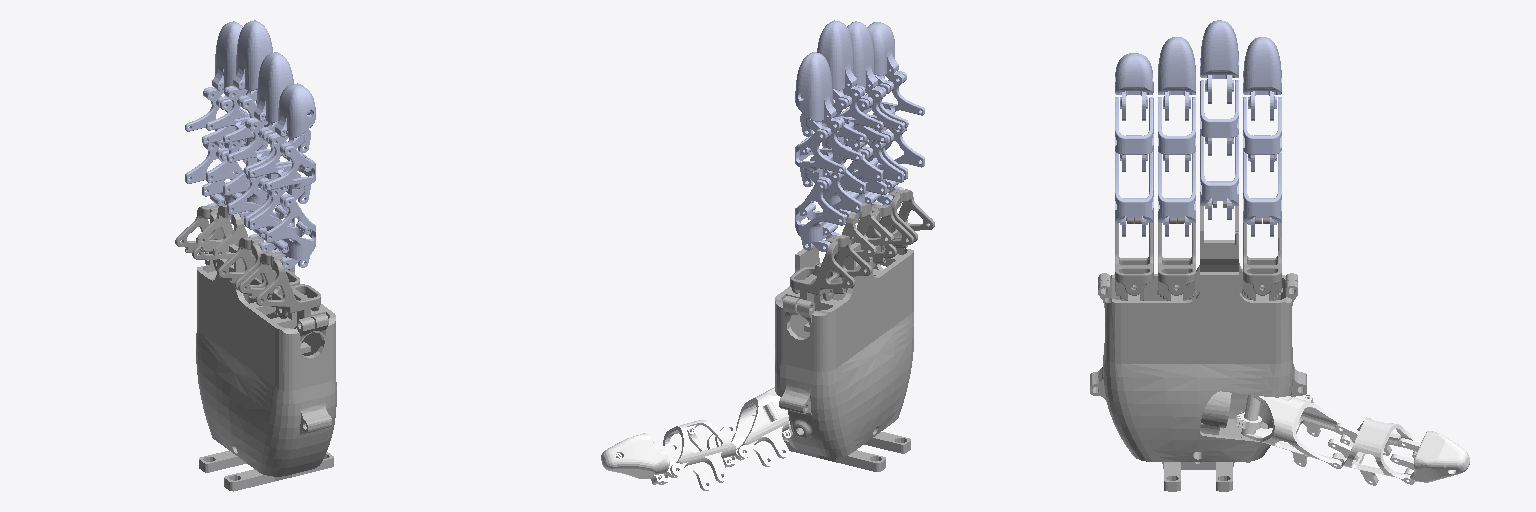
--- Facts derived from the render (not from the file) ---
Views: 3 orthographic renders of the robot side by side, from view 1: azimuth 30°, elevation 25°; view 2: azimuth 150°, elevation 25°; view 3: azimuth 270°, elevation 25°.
Robot: HAND_ASSEMBLY_w_tip — 24 links, 23 joints (18 revolute, 5 fixed); root link Palm_Base; default pose: every joint at zero.
Links seen in each view (by area): view 1: Palm_Base, P_B_MCP, P_MCP, P_PIP, P_DIP, R_DIP, M_DIP, I_DIP, R_B_MCP, M_PIP, R_MCP, M_MCP (+4 smaller); view 2: Palm_Base, T_MCP, T_CMC, I_B_MCP, I_DIP, I_MCP, T_IP, I_PIP, M_DIP_TIP, R_DIP, P_DIP, M_PIP (+8 smaller); view 3: Palm_Base, T_CMC, T_MCP, T_IP, R_DIP, I_DIP, I_B_MCP, R_B_MCP, P_B_MCP, P_DIP, P_MCP, M_MCP (+8 smaller).
Boxes of the visible links, x1,y1,x2,y2 form: Palm_Base: (196,205,336,491); P_B_MCP: (238,252,320,328); P_MCP: (248,185,315,269); P_PIP: (248,133,315,205); P_DIP: (269,83,315,154); R_DIP: (247,52,293,138); M_DIP: (226,21,272,106); I_DIP: (205,21,246,107); R_B_MCP: (217,237,299,314); M_PIP: (206,86,267,150); R_MCP: (227,170,294,252); M_MCP: (206,138,266,222); Palm_Base: (775,203,913,471); T_MCP: (659,420,745,490); T_CMC: (728,387,790,466); I_B_MCP: (790,235,871,310); I_DIP: (795,52,841,137); I_MCP: (795,169,861,251); T_IP: (601,433,679,484); I_PIP: (795,117,862,188); M_DIP_TIP: (817,21,861,106); R_DIP: (843,21,883,106); P_DIP: (867,22,904,91); M_PIP: (822,85,883,149); Palm_Base: (1090,201,1306,491); T_CMC: (1235,394,1345,468); T_MCP: (1328,417,1418,485); T_IP: (1390,431,1469,482); R_DIP: (1158,37,1195,120); I_DIP: (1243,37,1281,120); I_B_MCP: (1242,218,1282,300); R_B_MCP: (1157,218,1196,300); P_B_MCP: (1115,218,1153,300); P_DIP: (1115,53,1153,120); P_MCP: (1115,150,1153,236); M_MCP: (1200,134,1238,219).
Bounding box of the posed robot: 0.097 × 0.1869 × 0.2405 m (x, y, z).
24 mesh visuals loaded from 24 distinct referenced files (24 binary STL).

The robot description file, URDF, robot "HAND_ASSEMBLY_w_tip":
<?xml version="1.0" encoding="utf-8"?>
<!-- This URDF was automatically created by SolidWorks to URDF Exporter! Originally created by Stephen Brawner ([email redacted]) 
     Commit Version: 1.6.0-4-g7f85cfe  Build Version: 1.6.7995.38578
     For more information, please see http://wiki.ros.org/sw_urdf_exporter -->
<robot
  name="HAND_ASSEMBLY_w_tip">
  <link
    name="Palm_Base">
    <inertial>
      <origin
        xyz="-0.00103400900285897 -0.000180539094809852 0.0474435139934218"
        rpy="0 0 0" />
      <mass
        value="0.0923260250366322" />
      <inertia
        ixx="0.00015783467129876"
        ixy="1.67552395000014E-06"
        ixz="2.03624787383231E-06"
        iyy="0.000112349532484309"
        iyz="-3.30084225768315E-06"
        izz="7.70769956188042E-05" />
    </inertial>
    <visual>
      <origin
        xyz="0 0 0"
        rpy="0 0 0" />
      <geometry>
        <mesh
          filename="Palm_Base.STL" />
      </geometry>
      <material
        name="">
        <color
          rgba="0.752941176470588 0.752941176470588 0.752941176470588 1" />
      </material>
    </visual>
    <collision>
      <origin
        xyz="0 0 0"
        rpy="0 0 0" />
      <geometry>
        <mesh
          filename="Palm_Base.STL" />
      </geometry>
    </collision>
  </link>
  <link
    name="T_CMC">
    <inertial>
      <origin
        xyz="-0.0177528743407777 0.00210709032429534 0.00172578328714319"
        rpy="0 0 0" />
      <mass
        value="0.00466274355739475" />
      <inertia
        ixx="5.91068337186523E-07"
        ixy="1.22100042338684E-07"
        ixz="7.66648747890101E-08"
        iyy="1.15532024570322E-06"
        iyz="8.72417776166709E-09"
        izz="1.05459263052673E-06" />
    </inertial>
    <visual>
      <origin
        xyz="0 0 0"
        rpy="0 0 0" />
      <geometry>
        <mesh
          filename="T_CMC.STL" />
      </geometry>
      <material
        name="">
        <color
          rgba="1 1 1 1" />
      </material>
    </visual>
    <collision>
      <origin
        xyz="0 0 0"
        rpy="0 0 0" />
      <geometry>
        <mesh
          filename="T_CMC.STL" />
      </geometry>
    </collision>
  </link>
  <joint
    name="T_CMC"
    type="revolute">
    <origin
      xyz="0.0115599999999981 0.0263657188690824 0.0345742378610531"
      rpy="-3.08545108813298 -0.146781499054298 -1.9376645639798" />
    <parent
      link="Palm_Base" />
    <child
      link="T_CMC" />
    <axis
      xyz="0 0 1" />
    <limit
      lower="0"
      upper="1.8545"
      effort="10"
      velocity="0" />
  </joint>
  <link
    name="T_MCP">
    <inertial>
      <origin
        xyz="-0.0117195543506135 0.0142292379065931 7.95619311620005E-06"
        rpy="0 0 0" />
      <mass
        value="0.0033547197974598" />
      <inertia
        ixx="5.26043145167794E-07"
        ixy="9.04812058339906E-08"
        ixz="-8.47222922629862E-10"
        iyy="4.82729259847219E-07"
        iyz="8.57465672525974E-10"
        izz="6.36180921499929E-07" />
    </inertial>
    <visual>
      <origin
        xyz="0 0 0"
        rpy="0 0 0" />
      <geometry>
        <mesh
          filename="T_MCP.STL" />
      </geometry>
      <material
        name="">
        <color
          rgba="1 1 1 1" />
      </material>
    </visual>
    <collision>
      <origin
        xyz="0 0 0"
        rpy="0 0 0" />
      <geometry>
        <mesh
          filename="T_MCP.STL" />
      </geometry>
    </collision>
  </link>
  <joint
    name="T_MCP"
    type="revolute">
    <origin
      xyz="-0.0469999941010945 0.00706933481126965 0.00842490515858201"
      rpy="0.134387415062573 -0.865005439816257 1.39498933884904" />
    <parent
      link="T_CMC" />
    <child
      link="T_MCP" />
    <axis
      xyz="0 0 1" />
    <limit
      lower="0"
      upper="0.9203"
      effort="10"
      velocity="0" />
  </joint>
  <link
    name="T_IP">
    <inertial>
      <origin
        xyz="-0.0154710251108717 0.0116628328499748 -1.39141450905822E-05"
        rpy="0 0 0" />
      <mass
        value="0.00427950857548729" />
      <inertia
        ixx="4.55363913450062E-07"
        ixy="1.71115890432477E-07"
        ixz="7.03068336447427E-11"
        iyy="4.33364739226157E-07"
        iyz="2.79946493298776E-10"
        izz="5.83632941087751E-07" />
    </inertial>
    <visual>
      <origin
        xyz="0 0 0"
        rpy="0 0 0" />
      <geometry>
        <mesh
          filename="T_IP.STL" />
      </geometry>
      <material
        name="">
        <color
          rgba="1 1 1 1" />
      </material>
    </visual>
    <collision>
      <origin
        xyz="0 0 0"
        rpy="0 0 0" />
      <geometry>
        <mesh
          filename="T_IP.STL" />
      </geometry>
    </collision>
  </link>
  <joint
    name="T_IP"
    type="revolute">
    <origin
      xyz="-0.011834 0.038209 0"
      rpy="0 0 0" />
    <parent
      link="T_MCP" />
    <child
      link="T_IP" />
    <axis
      xyz="0 0 1" />
    <limit
      lower="0"
      upper="0.7858"
      effort="10"
      velocity="0" />
  </joint>
  <link
    name="T_IP_TIP">
    <inertial>
      <origin
        xyz="0.0103691008973476 -0.015362481770586 -1.39141450904955E-05"
        rpy="0 0 0" />
      <mass
        value="0.0042795085754873" />
      <inertia
        ixx="4.55363913450062E-07"
        ixy="1.71115890432475E-07"
        ixz="7.03068336449413E-11"
        iyy="4.33364739226156E-07"
        iyz="2.79946493298683E-10"
        izz="5.83632941087752E-07" />
    </inertial>
    <visual>
      <origin
        xyz="0 0 0"
        rpy="0 0 0" />
      <geometry>
        <mesh
          filename="T_IP_TIP.STL" />
      </geometry>
      <material
        name="">
        <color
          rgba="1 1 1 1" />
      </material>
    </visual>
    <collision>
      <origin
        xyz="0 0 0"
        rpy="0 0 0" />
      <geometry>
        <mesh
          filename="T_IP_TIP.STL" />
      </geometry>
    </collision>
  </link>
  <joint
    name="T_IP_tip"
    type="fixed">
    <origin
      xyz="-0.02584 0.027025 0"
      rpy="0 0 0" />
    <parent
      link="T_IP" />
    <child
      link="T_IP_TIP" />
    <axis
      xyz="0 0 0" />
  </joint>
  <link
    name="I_B_MCP">
    <inertial>
      <origin
        xyz="-0.000141740995557887 0.00741427693562444 0.00589412532435988"
        rpy="0 0 0" />
      <mass
        value="0.00533430750029796" />
      <inertia
        ixx="1.03059700939786E-06"
        ixy="2.85492272449384E-09"
        ixz="5.92070466417556E-09"
        iyy="6.30910124394686E-07"
        iyz="-3.26746600649069E-07"
        izz="8.35250160642294E-07" />
    </inertial>
    <visual>
      <origin
        xyz="0 0 0"
        rpy="0 0 0" />
      <geometry>
        <mesh
          filename="I_B_MCP.STL" />
      </geometry>
      <material
        name="">
        <color
          rgba="0.698039215686274 0.698039215686274 0.698039215686274 1" />
      </material>
    </visual>
    <collision>
      <origin
        xyz="0 0 0"
        rpy="0 0 0" />
      <geometry>
        <mesh
          filename="I_B_MCP.STL" />
      </geometry>
    </collision>
  </link>
  <joint
    name="I_B_MCP"
    type="revolute">
    <origin
      xyz="0 0.0315 0.101"
      rpy="1.5708 0 -1.5708" />
    <parent
      link="Palm_Base" />
    <child
      link="I_B_MCP" />
    <axis
      xyz="0 0 1" />
    <limit
      lower="0"
      upper="0.4666"
      effort="0"
      velocity="0" />
  </joint>
  <link
    name="I_MCP">
    <inertial>
      <origin
        xyz="1.74845297286758E-05 0.0124250824596619 -0.00584261155744063"
        rpy="0 0 0" />
      <mass
        value="0.002755942184203" />
      <inertia
        ixx="3.71398920418385E-07"
        ixy="4.40724760944911E-11"
        ixz="5.10520634416052E-11"
        iyy="2.52622034069185E-07"
        iyz="-4.7152595339951E-08"
        izz="3.66973305602765E-07" />
    </inertial>
    <visual>
      <origin
        xyz="0 0 0"
        rpy="0 0 0" />
      <geometry>
        <mesh
          filename="I_MCP.STL" />
      </geometry>
      <material
        name="">
        <color
          rgba="0.796078431372549 0.823529411764706 0.937254901960784 1" />
      </material>
    </visual>
    <collision>
      <origin
        xyz="0 0 0"
        rpy="0 0 0" />
      <geometry>
        <mesh
          filename="I_MCP.STL" />
      </geometry>
    </collision>
  </link>
  <joint
    name="I_MCP"
    type="revolute">
    <origin
      xyz="0 0.0279999999999992 0.0105000000000001"
      rpy="0 0 0" />
    <parent
      link="I_B_MCP" />
    <child
      link="I_MCP" />
    <axis
      xyz="-1 0 0" />
    <limit
      lower="0"
      upper="1.8002"
      effort="0"
      velocity="0" />
  </joint>
  <link
    name="I_PIP">
    <inertial>
      <origin
        xyz="1.91322862936327E-05 0.0102728432221988 -0.00621243408785706"
        rpy="0 0 0" />
      <mass
        value="0.00237210892394421" />
      <inertia
        ixx="2.39005004655723E-07"
        ixy="3.37006733460047E-11"
        ixz="3.67682453100147E-11"
        iyy="2.02579627119824E-07"
        iyz="-3.33240723310074E-09"
        izz="2.33279497210016E-07" />
    </inertial>
    <visual>
      <origin
        xyz="0 0 0"
        rpy="0 0 0" />
      <geometry>
        <mesh
          filename="I_PIP.STL" />
      </geometry>
      <material
        name="">
        <color
          rgba="0.796078431372549 0.823529411764706 0.937254901960784 1" />
      </material>
    </visual>
    <collision>
      <origin
        xyz="0 0 0"
        rpy="0 0 0" />
      <geometry>
        <mesh
          filename="I_PIP.STL" />
      </geometry>
    </collision>
  </link>
  <joint
    name="I_PIP"
    type="revolute">
    <origin
      xyz="0 0.0349845407392164 -4.41133227821362E-05"
      rpy="0 0 0" />
    <parent
      link="I_MCP" />
    <child
      link="I_PIP" />
    <axis
      xyz="-1 0 0" />
    <limit
      upper="1.3104"
      lower="0"
      effort="0"
      velocity="0" />
  </joint>
  <link
    name="I_DIP">
    <inertial>
      <origin
        xyz="0.00887453911689197 0.0186542942734911 1.79511034709562E-05"
        rpy="0 0 0" />
      <mass
        value="0.00401062179385268" />
      <inertia
        ixx="5.63158594739122E-07"
        ixy="-6.20177624878477E-08"
        ixz="2.95049292892786E-11"
        iyy="2.03576120686417E-07"
        iyz="2.56006508686644E-10"
        izz="5.37383345412659E-07" />
    </inertial>
    <visual>
      <origin
        xyz="0 0 0"
        rpy="0 0 0" />
      <geometry>
        <mesh
          filename="I_DIP.STL" />
      </geometry>
      <material
        name="">
        <color
          rgba="0.796078431372549 0.823529411764706 0.937254901960784 1" />
      </material>
    </visual>
    <collision>
      <origin
        xyz="0 0 0"
        rpy="0 0 0" />
      <geometry>
        <mesh
          filename="I_DIP.STL" />
      </geometry>
    </collision>
  </link>
  <joint
    name="I_DIP"
    type="revolute">
    <origin
      xyz="0 0.028 0"
      rpy="0 1.5707963267949 0" />
    <parent
      link="I_PIP" />
    <child
      link="I_DIP" />
    <axis
      xyz="0 0 -1" />
    <limit
      upper="1.1885"
      lower="0"
      effort="0"
      velocity="0" />
  </joint>
  <link
    name="I_DIP_TIP">
    <inertial>
      <origin
        xyz="-0.00112546088310851 -0.0208457057265095 1.79511034683888E-05"
        rpy="0 0 0" />
      <mass
        value="0.00401062179385268" />
      <inertia
        ixx="5.63158594739121E-07"
        ixy="-6.20177624878477E-08"
        ixz="2.95049292892854E-11"
        iyy="2.03576120686417E-07"
        iyz="2.5600650868666E-10"
        izz="5.37383345412658E-07" />
    </inertial>
    <visual>
      <origin
        xyz="0 0 0"
        rpy="0 0 0" />
      <geometry>
        <mesh
          filename="I_DIP_TIP.STL" />
      </geometry>
      <material
        name="">
        <color
          rgba="0.796078431372549 0.823529411764706 0.937254901960784 1" />
      </material>
    </visual>
    <collision>
      <origin
        xyz="0 0 0"
        rpy="0 0 0" />
      <geometry>
        <mesh
          filename="I_DIP_TIP.STL" />
      </geometry>
    </collision>
  </link>
  <joint
    name="I_DIP_tip"
    type="fixed">
    <origin
      xyz="0.0100000000000005 0.0395000000000005 0"
      rpy="0 0 0" />
    <parent
      link="I_DIP" />
    <child
      link="I_DIP_TIP" />
    <axis
      xyz="0 0 0" />
  </joint>
  <link
    name="M_MCP">
    <inertial>
      <origin
        xyz="1.64022040103299E-05 0.0123174782088804 -0.00573714670375402"
        rpy="0 0 0" />
      <mass
        value="0.00272570986161072" />
      <inertia
        ixx="3.60741144993206E-07"
        ixy="4.96515705969676E-11"
        ixz="5.81346054455877E-11"
        iyy="2.49082764372577E-07"
        iyz="-4.63139493716337E-08"
        izz="3.60046128584186E-07" />
    </inertial>
    <visual>
      <origin
        xyz="0 0 0"
        rpy="0 0 0" />
      <geometry>
        <mesh
          filename="M_MCP.STL" />
      </geometry>
      <material
        name="">
        <color
          rgba="0.796078431372549 0.823529411764706 0.937254901960784 1" />
      </material>
    </visual>
    <collision>
      <origin
        xyz="0 0 0"
        rpy="0 0 0" />
      <geometry>
        <mesh
          filename="M_MCP.STL" />
      </geometry>
    </collision>
  </link>
  <joint
    name="M_MCP"
    type="revolute">
    <origin
      xyz="-0.010497 0.010499 0.138"
      rpy="1.5708 0 -1.5708" />
    <parent
      link="Palm_Base" />
    <child
      link="M_MCP" />
    <axis
      xyz="-1 0 0" />
    <limit
      upper="1.7791"
      lower="0"
      effort="0"
      velocity="0" />
  </joint>
  <link
    name="M_PIP">
    <inertial>
      <origin
        xyz="1.83008023570738E-05 0.0102838809467659 -0.00629710419392002"
        rpy="0 0 0" />
      <mass
        value="0.00233862559762926" />
      <inertia
        ixx="2.35929413226276E-07"
        ixy="-3.34829212476315E-13"
        ixz="3.71732498979706E-11"
        iyy="2.00832285337959E-07"
        iyz="-3.66556023160932E-09"
        izz="2.27074048207937E-07" />
    </inertial>
    <visual>
      <origin
        xyz="0 0 0"
        rpy="0 0 0" />
      <geometry>
        <mesh
          filename="M_PIP.STL" />
      </geometry>
      <material
        name="">
        <color
          rgba="0.792156862745098 0.819607843137255 0.933333333333333 1" />
      </material>
    </visual>
    <collision>
      <origin
        xyz="0 0 0"
        rpy="0 0 0" />
      <geometry>
        <mesh
          filename="M_PIP.STL" />
      </geometry>
    </collision>
  </link>
  <joint
    name="M_PIP"
    type="revolute">
    <origin
      xyz="0 0.0349845407392164 -4.41133227822368E-05"
      rpy="0 0 0" />
    <parent
      link="M_MCP" />
    <child
      link="M_PIP" />
    <axis
      xyz="-1 0 0" />
    <limit
      upper="1.2823"
      lower="0"
      effort="0"
      velocity="0" />
  </joint>
  <link
    name="M_DIP">
    <inertial>
      <origin
        xyz="0.00882563923105356 0.0186497288030855 1.91380464206088E-05"
        rpy="0 0 0" />
      <mass
        value="0.00393986039661757" />
      <inertia
        ixx="5.59716447859537E-07"
        ixy="-6.16509349274183E-08"
        ixz="2.3914122648095E-11"
        iyy="2.02161694696982E-07"
        iyz="2.54134288669402E-10"
        izz="5.33501898097562E-07" />
    </inertial>
    <visual>
      <origin
        xyz="0 0 0"
        rpy="0 0 0" />
      <geometry>
        <mesh
          filename="M_DIP.STL" />
      </geometry>
      <material
        name="">
        <color
          rgba="0.796078431372549 0.823529411764706 0.937254901960784 1" />
      </material>
    </visual>
    <collision>
      <origin
        xyz="0 0 0"
        rpy="0 0 0" />
      <geometry>
        <mesh
          filename="M_DIP.STL" />
      </geometry>
    </collision>
  </link>
  <joint
    name="M_DIP"
    type="revolute">
    <origin
      xyz="0 0.028 0"
      rpy="0 1.5707963267949 0" />
    <parent
      link="M_PIP" />
    <child
      link="M_DIP" />
    <axis
      xyz="0 0 -1" />
    <limit
      upper="1.275"
      lower="0"
      effort="0"
      velocity="0" />
  </joint>
  <link
    name="M_DIP_TIP">
    <inertial>
      <origin
        xyz="-0.00117436076894647 -0.0208502711969146 1.82879864194761E-05"
        rpy="0 0 0" />
      <mass
        value="0.00393986039661757" />
      <inertia
        ixx="5.59716447859538E-07"
        ixy="-6.16509349274183E-08"
        ixz="2.39141226480827E-11"
        iyy="2.02161694696982E-07"
        iyz="2.54134288669405E-10"
        izz="5.33501898097562E-07" />
    </inertial>
    <visual>
      <origin
        xyz="0 0 0"
        rpy="0 0 0" />
      <geometry>
        <mesh
          filename="M_DIP_TIP.STL" />
      </geometry>
      <material
        name="">
        <color
          rgba="0.796078431372549 0.823529411764706 0.937254901960784 1" />
      </material>
    </visual>
    <collision>
      <origin
        xyz="0 0 0"
        rpy="0 0 0" />
      <geometry>
        <mesh
          filename="M_DIP_TIP.STL" />
      </geometry>
    </collision>
  </link>
  <joint
    name="M_DIP_tip"
    type="fixed">
    <origin
      xyz="0.01 0.0395000000000001 0"
      rpy="0 0 0" />
    <parent
      link="M_DIP" />
    <child
      link="M_DIP_TIP" />
    <axis
      xyz="0 0 0" />
  </joint>
  <link
    name="R_B_MCP">
    <inertial>
      <origin
        xyz="0.000141400022495722 0.00748571390330596 -0.00591445143783573"
        rpy="0 0 0" />
      <mass
        value="0.00533806254719218" />
      <inertia
        ixx="1.03534831698766E-06"
        ixy="-2.71242837602829E-09"
        ixz="5.52800343097293E-09"
        iyy="6.29683236200971E-07"
        iyz="3.2850594953798E-07"
        izz="8.39889436290282E-07" />
    </inertial>
    <visual>
      <origin
        xyz="0 0 0"
        rpy="0 0 0" />
      <geometry>
        <mesh
          filename="R_B_MCP.STL" />
      </geometry>
      <material
        name="">
        <color
          rgba="0.698039215686274 0.698039215686274 0.698039215686274 1" />
      </material>
    </visual>
    <collision>
      <origin
        xyz="0 0 0"
        rpy="0 0 0" />
      <geometry>
        <mesh
          filename="R_B_MCP.STL" />
      </geometry>
    </collision>
  </link>
  <joint
    name="R_B_MCP"
    type="revolute">
    <origin
      xyz="0 -0.0105 0.101"
      rpy="1.5708 0 1.5708" />
    <parent
      link="Palm_Base" />
    <child
      link="R_B_MCP" />
    <axis
      xyz="0 0 1" />
    <limit
      lower="0"
      upper="0.4666"
      effort="0"
      velocity="0" />
  </joint>
  <link
    name="R_MCP">
    <inertial>
      <origin
        xyz="1.81899888161037E-05 0.012359374141564 -0.00587054662659402"
        rpy="0 0 0" />
      <mass
        value="0.00276772093942441" />
      <inertia
        ixx="3.62933389029114E-07"
        ixy="2.6008141899167E-11"
        ixz="4.37192594293451E-11"
        iyy="2.51940280505407E-07"
        iyz="-4.485013942002E-08"
        izz="3.63178789330102E-07" />
    </inertial>
    <visual>
      <origin
        xyz="0 0 0"
        rpy="0 0 0" />
      <geometry>
        <mesh
          filename="R_MCP.STL" />
      </geometry>
      <material
        name="">
        <color
          rgba="0.796078431372549 0.823529411764706 0.937254901960784 1" />
      </material>
    </visual>
    <collision>
      <origin
        xyz="0 0 0"
        rpy="0 0 0" />
      <geometry>
        <mesh
          filename="R_MCP.STL" />
      </geometry>
    </collision>
  </link>
  <joint
    name="R_MCP"
    type="revolute">
    <origin
      xyz="0 0.028 -0.0104999999999996"
      rpy="-3.14159265358979 0 3.14159265358979" />
    <parent
      link="R_B_MCP" />
    <child
      link="R_MCP" />
    <axis
      xyz="-1 0 0" />
    <limit
      upper="1.7553"
      lower="0"
      effort="0"
      velocity="0" />
  </joint>
  <link
    name="R_PIP">
    <inertial>
      <origin
        xyz="1.82711535064734E-05 0.0103252304355741 -0.00628747443583766"
        rpy="0 0 0" />
      <mass
        value="0.00234637206717096" />
      <inertia
        ixx="2.36074471265145E-07"
        ixy="7.75187690713442E-12"
        ixz="1.58152430107811E-11"
        iyy="2.01399401299825E-07"
        iyz="-3.30872238950386E-09"
        izz="2.28648255064159E-07" />
    </inertial>
    <visual>
      <origin
        xyz="0 0 0"
        rpy="0 0 0" />
      <geometry>
        <mesh
          filename="R_PIP.STL" />
      </geometry>
      <material
        name="">
        <color
          rgba="0.796078431372549 0.823529411764706 0.937254901960784 1" />
      </material>
    </visual>
    <collision>
      <origin
        xyz="0 0 0"
        rpy="0 0 0" />
      <geometry>
        <mesh
          filename="R_PIP.STL" />
      </geometry>
    </collision>
  </link>
  <joint
    name="R_PIP"
    type="revolute">
    <origin
      xyz="0 0.0349845407392164 -4.41133227817875E-05"
      rpy="0 0 0" />
    <parent
      link="R_MCP" />
    <child
      link="R_PIP" />
    <axis
      xyz="-1 0 0" />
    <limit
      upper="1.273"
      lower="0"
      effort="0"
      velocity="0" />
  </joint>
  <link
    name="R_DIP">
    <inertial>
      <origin
        xyz="0.00880902130280509 0.0186629668952652 1.83062358519743E-05"
        rpy="0 0 0" />
      <mass
        value="0.00392874816769408" />
      <inertia
        ixx="5.5954543559867E-07"
        ixy="-6.18615159431051E-08"
        ixz="2.41650917133391E-11"
        iyy="2.0175897351784E-07"
        iyz="2.5578789547633E-10"
        izz="5.33046408962186E-07" />
    </inertial>
    <visual>
      <origin
        xyz="0 0 0"
        rpy="0 0 0" />
      <geometry>
        <mesh
          filename="R_DIP.STL" />
      </geometry>
      <material
        name="">
        <color
          rgba="0.796078431372549 0.823529411764706 0.937254901960784 1" />
      </material>
    </visual>
    <collision>
      <origin
        xyz="0 0 0"
        rpy="0 0 0" />
      <geometry>
        <mesh
          filename="R_DIP.STL" />
      </geometry>
    </collision>
  </link>
  <joint
    name="R_DIP"
    type="revolute">
    <origin
      xyz="0 0.028 0"
      rpy="0 1.5707963267949 0" />
    <parent
      link="R_PIP" />
    <child
      link="R_DIP" />
    <axis
      xyz="0 0 -1" />
    <limit
      upper="1.2842"
      lower="0"
      effort="0"
      velocity="0" />
  </joint>
  <link
    name="R_DIP_TIP">
    <inertial>
      <origin
        xyz="-0.00119097799471922 -0.020837030942089 1.8306400363521E-05"
        rpy="0 0 0" />
      <mass
        value="0.00392874891708615" />
      <inertia
        ixx="5.59545595893736E-07"
        ixy="-6.18615594670326E-08"
        ixz="2.41567546999687E-11"
        iyy="2.01758965447605E-07"
        iyz="2.55755267014244E-10"
        izz="5.33046577522925E-07" />
    </inertial>
    <visual>
      <origin
        xyz="0 0 0"
        rpy="0 0 0" />
      <geometry>
        <mesh
          filename="R_DIP_TIP.STL" />
      </geometry>
      <material
        name="">
        <color
          rgba="0.796078431372549 0.823529411764706 0.937254901960784 1" />
      </material>
    </visual>
    <collision>
      <origin
        xyz="0 0 0"
        rpy="0 0 0" />
      <geometry>
        <mesh
          filename="R_DIP_TIP.STL" />
      </geometry>
    </collision>
  </link>
  <joint
    name="R_DIP_tip"
    type="fixed">
    <origin
      xyz="0.0100000000000002 0.0395 0"
      rpy="0 0 0" />
    <parent
      link="R_DIP" />
    <child
      link="R_DIP_TIP" />
    <axis
      xyz="0 0 0" />
  </joint>
  <link
    name="P_B_MCP">
    <inertial>
      <origin
        xyz="-0.000168227144883799 0.00805589897425299 -0.00620012472926412"
        rpy="0 0 0" />
      <mass
        value="0.00512816464476323" />
      <inertia
        ixx="9.99698557391836E-07"
        ixy="-2.18278347694959E-08"
        ixz="1.56085772683329E-08"
        iyy="6.10313699066286E-07"
        iyz="3.14479371620686E-07"
        izz="7.98354669596689E-07" />
    </inertial>
    <visual>
      <origin
        xyz="0 0 0"
        rpy="0 0 0" />
      <geometry>
        <mesh
          filename="P_B_MCP.STL" />
      </geometry>
      <material
        name="">
        <color
          rgba="0.698039215686274 0.698039215686274 0.698039215686274 1" />
      </material>
    </visual>
    <collision>
      <origin
        xyz="0 0 0"
        rpy="0 0 0" />
      <geometry>
        <mesh
          filename="P_B_MCP.STL" />
      </geometry>
    </collision>
  </link>
  <joint
    name="P_B_MCP"
    type="revolute">
    <origin
      xyz="0 -0.0314999999999991 0.101"
      rpy="1.5707963267949 0 1.5707963267949" />
    <parent
      link="Palm_Base" />
    <child
      link="P_B_MCP" />
    <axis
      xyz="0 0 1" />
    <limit
      lower="0"
      upper="0.6872"
      effort="0"
      velocity="0" />
  </joint>
  <link
    name="P_MCP">
    <inertial>
      <origin
        xyz="1.75554955950188E-05 0.0123862857722916 -0.00586906537761576"
        rpy="0 0 0" />
      <mass
        value="0.00275274576508524" />
      <inertia
        ixx="3.66135316485623E-07"
        ixy="5.22812137872017E-11"
        ixz="5.20268126523517E-11"
        iyy="2.51983299258902E-07"
        iyz="-4.56232322526551E-08"
        izz="3.63835747168657E-07" />
    </inertial>
    <visual>
      <origin
        xyz="0 0 0"
        rpy="0 0 0" />
      <geometry>
        <mesh
          filename="P_MCP.STL" />
      </geometry>
      <material
        name="">
        <color
          rgba="0.796078431372549 0.823529411764706 0.937254901960784 1" />
      </material>
    </visual>
    <collision>
      <origin
        xyz="0 0 0"
        rpy="0 0 0" />
      <geometry>
        <mesh
          filename="P_MCP.STL" />
      </geometry>
    </collision>
  </link>
  <joint
    name="P_MCP"
    type="revolute">
    <origin
      xyz="0 0.028 -0.0104999999999996"
      rpy="-3.14159265358979 0 3.14159265358979" />
    <parent
      link="P_B_MCP" />
    <child
      link="P_MCP" />
    <axis
      xyz="-1 0 0" />
    <limit
      upper="1.7269"
      lower="0"
      effort="0"
      velocity="0" />
  </joint>
  <link
    name="P_PIP">
    <inertial>
      <origin
        xyz="1.74613939576754E-05 0.0103551539568031 -0.00633662510888215"
        rpy="0 0 0" />
      <mass
        value="0.00234098594407861" />
      <inertia
        ixx="2.36046453580125E-07"
        ixy="-1.81481552815254E-11"
        ixz="6.62320590883984E-11"
        iyy="2.01338905932991E-07"
        iyz="-3.58240052840699E-09"
        izz="2.29068935661679E-07" />
    </inertial>
    <visual>
      <origin
        xyz="0 0 0"
        rpy="0 0 0" />
      <geometry>
        <mesh
          filename="P_PIP.STL" />
      </geometry>
      <material
        name="">
        <color
          rgba="0.796078431372549 0.823529411764706 0.937254901960784 1" />
      </material>
    </visual>
    <collision>
      <origin
        xyz="0 0 0"
        rpy="0 0 0" />
      <geometry>
        <mesh
          filename="P_PIP.STL" />
      </geometry>
    </collision>
  </link>
  <joint
    name="P_PIP"
    type="revolute">
    <origin
      xyz="0 0.0349845407392164 -4.41133227819367E-05"
      rpy="0 0 0" />
    <parent
      link="P_MCP" />
    <child
      link="P_PIP" />
    <axis
      xyz="-1 0 0" />
    <limit
      upper="1.2573"
      lower="0"
      effort="0"
      velocity="0" />
  </joint>
  <link
    name="P_DIP">
    <inertial>
      <origin
        xyz="0.00857257995714257 0.015216338744899 2.31261281485526E-05"
        rpy="0 0 0" />
      <mass
        value="0.0031086176238361" />
      <inertia
        ixx="3.21156100189876E-07"
        ixy="-4.50241052565898E-08"
        ixz="7.08906803239545E-12"
        iyy="1.56377769878685E-07"
        iyz="7.86097567047071E-12"
        izz="3.02201695484807E-07" />
    </inertial>
    <visual>
      <origin
        xyz="0 0 0"
        rpy="0 0 0" />
      <geometry>
        <mesh
          filename="P_DIP.STL" />
      </geometry>
      <material
        name="">
        <color
          rgba="0.796078431372549 0.823529411764706 0.937254901960784 1" />
      </material>
    </visual>
    <collision>
      <origin
        xyz="0 0 0"
        rpy="0 0 0" />
      <geometry>
        <mesh
          filename="P_DIP.STL" />
      </geometry>
    </collision>
  </link>
  <joint
    name="P_DIP"
    type="revolute">
    <origin
      xyz="0 0.028 0"
      rpy="0 1.5707963267949 0" />
    <parent
      link="P_PIP" />
    <child
      link="P_DIP" />
    <axis
      xyz="0 0 -1" />
    <limit
      upper="1.2577"
      lower="0"
      effort="0"
      velocity="0" />
  </joint>
  <link
    name="P_DIP_TIP">
    <inertial>
      <origin
        xyz="-0.00142742008351409 -0.0152836613401574 2.31261185003676E-05"
        rpy="0 0 0" />
      <mass
        value="0.00310861760480009" />
      <inertia
        ixx="3.21156096904448E-07"
        ixy="-4.50241043703727E-08"
        ixz="7.0897587779266E-12"
        iyy="1.56377770371452E-07"
        iyz="7.86133288174135E-12"
        izz="3.02201692226518E-07" />
    </inertial>
    <visual>
      <origin
        xyz="0 0 0"
        rpy="0 0 0" />
      <geometry>
        <mesh
          filename="P_DIP_TIP.STL" />
      </geometry>
      <material
        name="">
        <color
          rgba="0.796078431372549 0.823529411764706 0.937254901960784 1" />
      </material>
    </visual>
    <collision>
      <origin
        xyz="0 0 0"
        rpy="0 0 0" />
      <geometry>
        <mesh
          filename="P_DIP_TIP.STL" />
      </geometry>
    </collision>
  </link>
  <joint
    name="P_DIP_tip"
    type="fixed">
    <origin
      xyz="0.00999999999999945 0.0304999999999999 0"
      rpy="0 0 0" />
    <parent
      link="P_DIP" />
    <child
      link="P_DIP_TIP" />
    <axis
      xyz="0 0 0" />
  </joint>
</robot>
